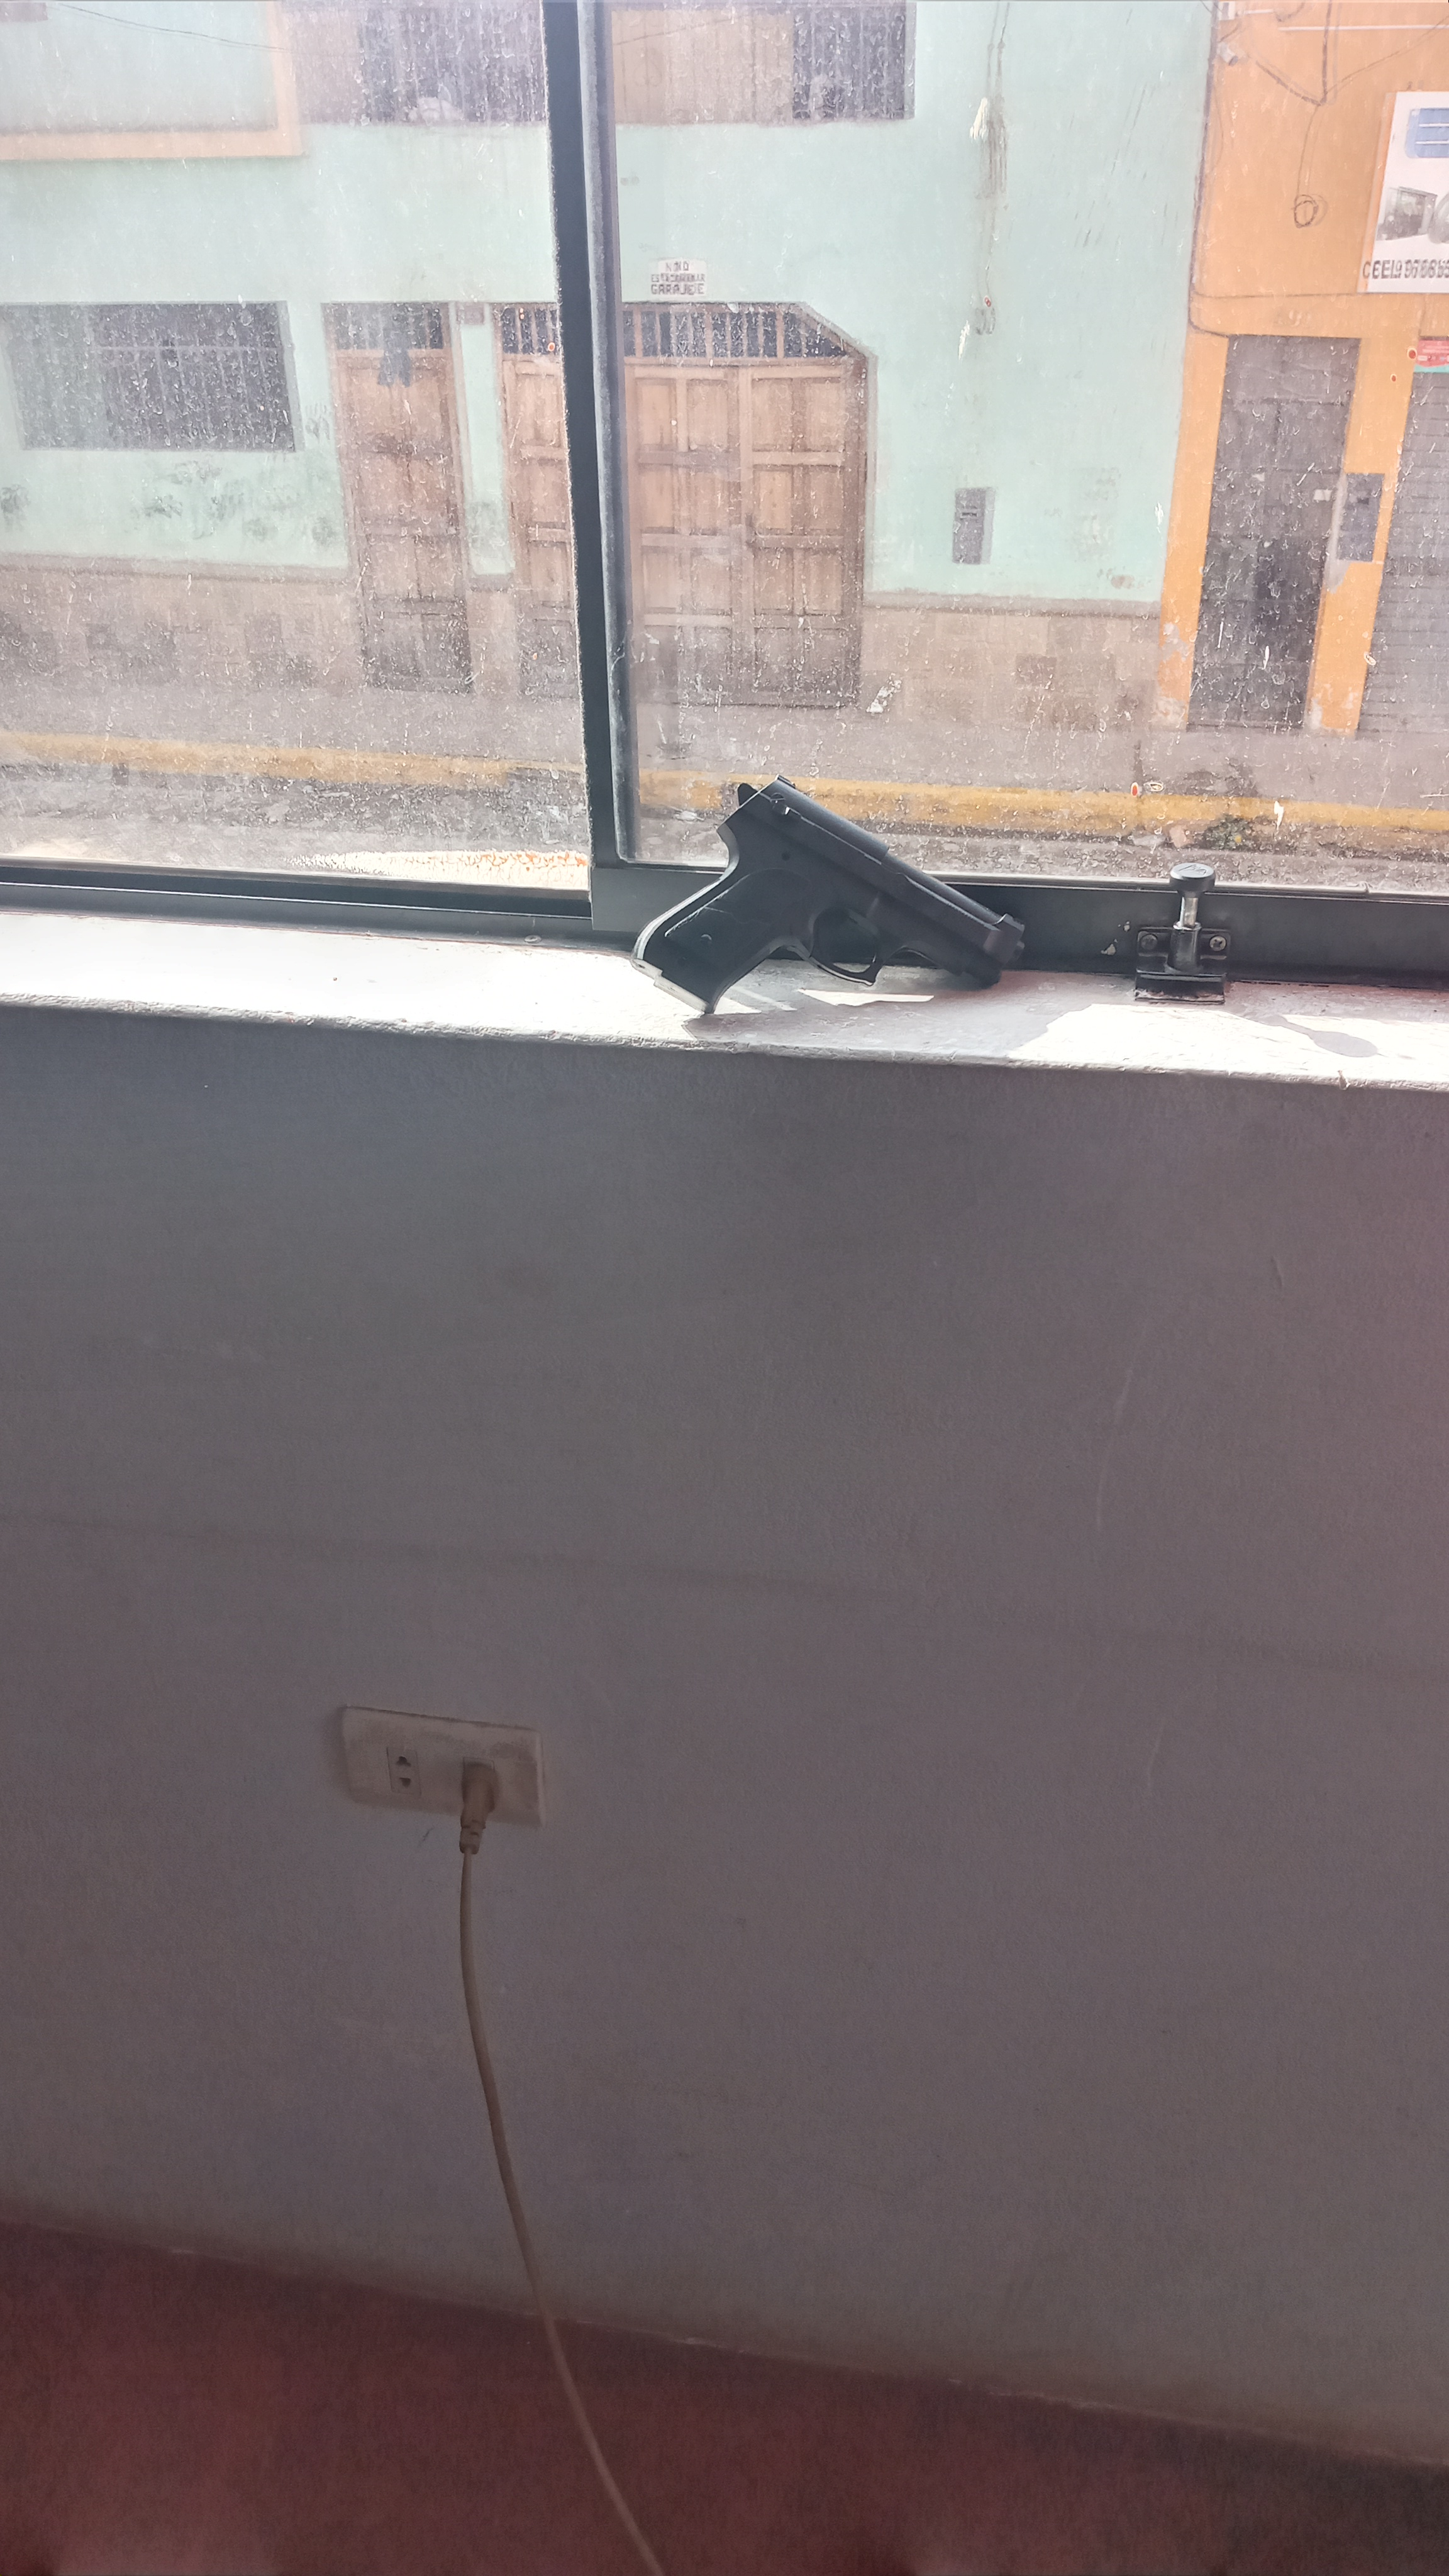Arma: (699, 796, 1014, 993)
